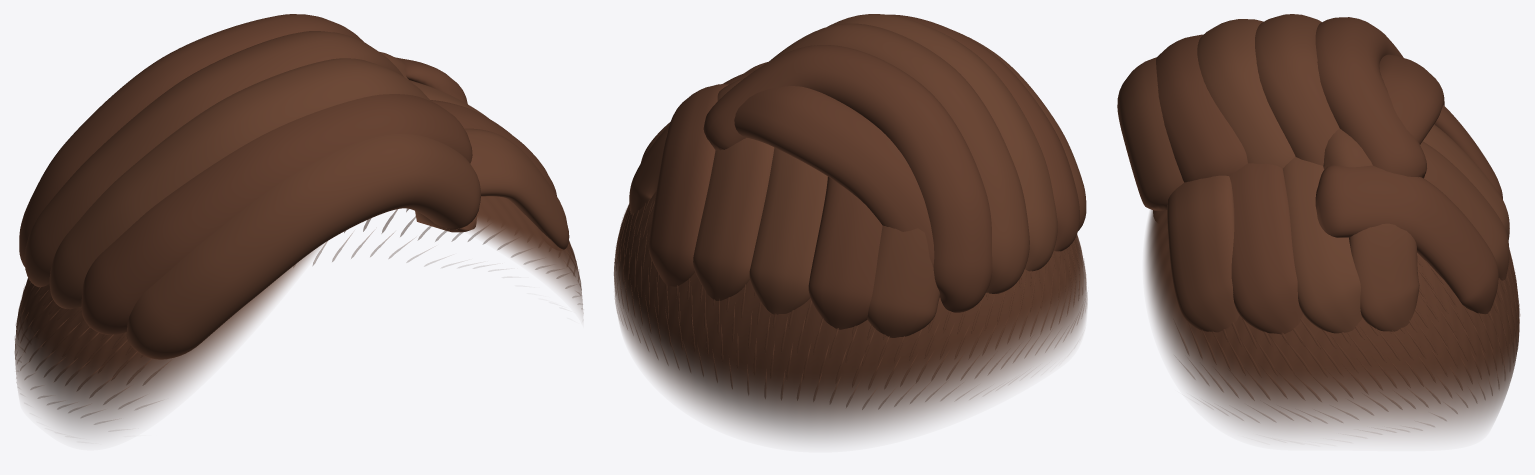
Rendered from hair-taper-sculpted.glb.
The picture shows the model from 3 angles, left to right: view 1: azimuth 30°, elevation 25°; view 2: azimuth 150°, elevation 25°; view 3: azimuth 270°, elevation 25°; orthographic projection. The views are drawn at different scales.
Visible parts, largest first — view 1: Hair / Taper top 0, Hair / Taper short sides, Hair / Taper top 1, Hair / Taper top 2, Hair / Taper top 3, Hair / Taper top 4, Hair / Taper short sweep 0, Hair / Taper fine direction, Hair / Taper short sweep 1, Hair / Taper crown 4; view 2: Hair / Taper short sides, Hair / Taper top 4, Hair / Taper rear bridge, Hair / Taper top 3, Hair / Taper crown 3, Hair / Taper top 2, Hair / Taper crown 2, Hair / Taper crown 4, Hair / Taper fine direction, Hair / Taper crown 1, Hair / Taper crown 0, Hair / Taper top 1 (+2 smaller); view 3: Hair / Taper short sides, Hair / Taper crown 4, Hair / Taper top 4, Hair / Taper short sweep 1, Hair / Taper short sweep 0, Hair / Taper top 3, Hair / Taper short sweep 2, Hair / Taper top 1, Hair / Taper top 2, Hair / Taper fine direction, Hair / Taper short sweep 3, Hair / Taper top 0 (+4 smaller).
Boxes of the visible parts, left/top/right/bottom form: Hair / Taper top 0: left=126, top=134, right=480, bottom=359; Hair / Taper short sides: left=15, top=196, right=582, bottom=435; Hair / Taper top 1: left=81, top=94, right=472, bottom=334; Hair / Taper top 2: left=49, top=58, right=430, bottom=309; Hair / Taper top 3: left=24, top=31, right=403, bottom=287; Hair / Taper top 4: left=19, top=14, right=363, bottom=267; Hair / Taper short sweep 0: left=464, top=128, right=569, bottom=249; Hair / Taper fine direction: left=14, top=208, right=581, bottom=424; Hair / Taper short sweep 1: left=430, top=100, right=556, bottom=195; Hair / Taper crown 4: left=396, top=57, right=467, bottom=104; Hair / Taper short sides: left=614, top=190, right=1086, bottom=440; Hair / Taper top 4: left=703, top=45, right=992, bottom=312; Hair / Taper rear bridge: left=734, top=86, right=934, bottom=267; Hair / Taper top 3: left=769, top=23, right=1029, bottom=293; Hair / Taper crown 3: left=693, top=78, right=774, bottom=300; Hair / Taper top 2: left=827, top=14, right=1057, bottom=271; Hair / Taper crown 2: left=749, top=147, right=827, bottom=314; Hair / Taper crown 4: left=648, top=84, right=728, bottom=286; Hair / Taper fine direction: left=614, top=200, right=1086, bottom=409; Hair / Taper crown 1: left=808, top=176, right=882, bottom=329; Hair / Taper crown 0: left=867, top=225, right=939, bottom=337; Hair / Taper top 1: left=888, top=14, right=1079, bottom=251; Hair / Taper short sides: left=1145, top=210, right=1519, bottom=437; Hair / Taper crown 4: left=1315, top=165, right=1498, bottom=314; Hair / Taper top 4: left=1315, top=17, right=1426, bottom=178; Hair / Taper short sweep 1: left=1229, top=163, right=1302, bottom=334; Hair / Taper short sweep 0: left=1167, top=175, right=1239, bottom=332; Hair / Taper top 3: left=1255, top=14, right=1339, bottom=165; Hair / Taper short sweep 2: left=1283, top=157, right=1362, bottom=333; Hair / Taper top 1: left=1156, top=34, right=1247, bottom=182; Hair / Taper top 2: left=1197, top=19, right=1295, bottom=168; Hair / Taper fine direction: left=1175, top=247, right=1520, bottom=430; Hair / Taper short sweep 3: left=1349, top=223, right=1419, bottom=331; Hair / Taper top 0: left=1117, top=57, right=1183, bottom=218.
Bounding box in the file's own units: 0.9745 × 0.7809 × 0.753.
